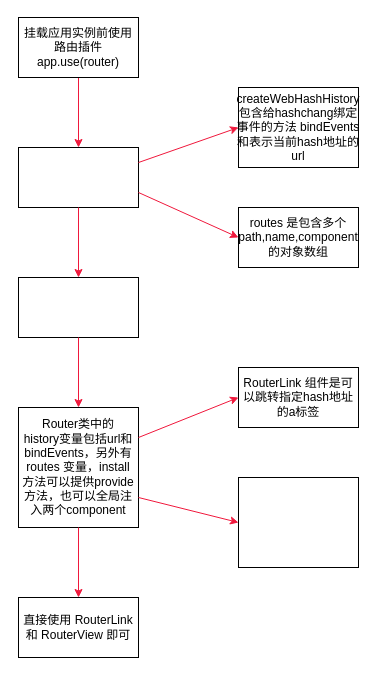
This 377x675 diagram has some shape labels left out. The box of each missing label's shape, as (x1, y1, x2, y2) in pixels:
createRouter 方法可以通过new Router创建实例对象: (18, 276, 138, 338)
createRouter方法传入对象参数 createWebHashHistory 和routes: (18, 146, 138, 208)
RouterView组件 1. useRouter方法注入router对象 2. 根据当前hash地址去routes中找到对应的组件: (238, 476, 358, 568)
